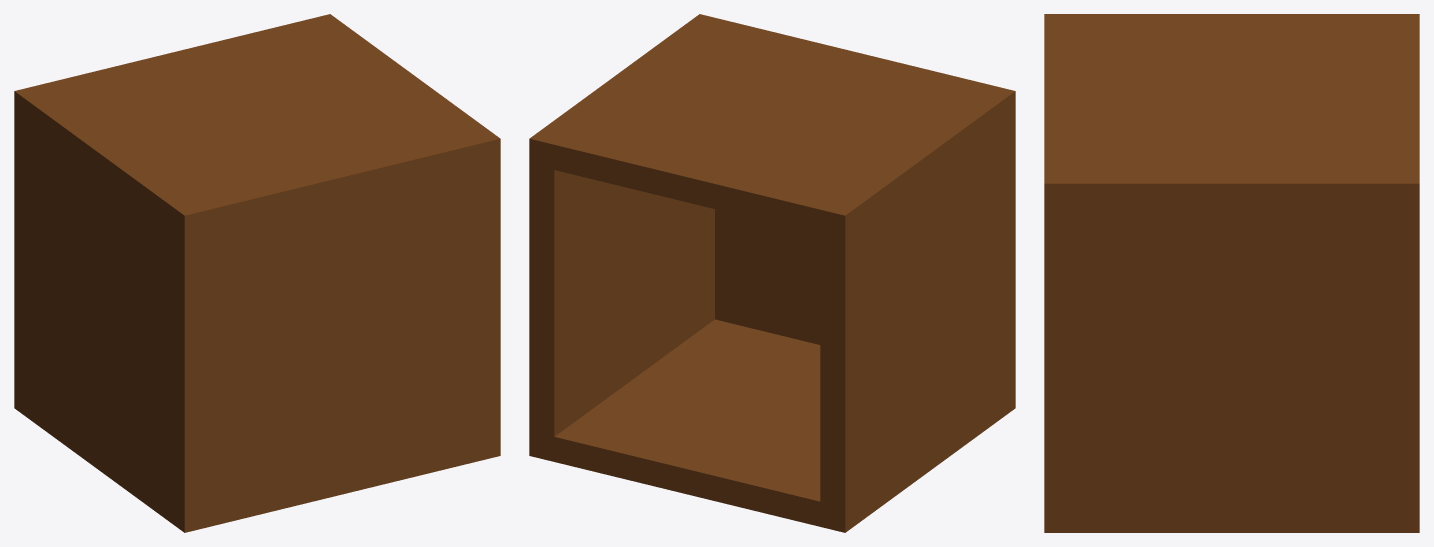
Rendered from topSelf.fbx.
The picture shows the model from 3 angles, left to right: view 1: azimuth 30°, elevation 25°; view 2: azimuth 150°, elevation 25°; view 3: azimuth 270°, elevation 25°; orthographic projection. The views are drawn at different scales.
Visible parts, largest first — view 1: container.002; view 2: container.002; view 3: container.002.
Part boxes in pixels (left/top/right/bottom): container.002: left=14, top=14, right=500, bottom=532; container.002: left=529, top=14, right=1015, bottom=532; container.002: left=1044, top=14, right=1419, bottom=532.
Bounding box in the file's own units: 931 × 906 × 970.
